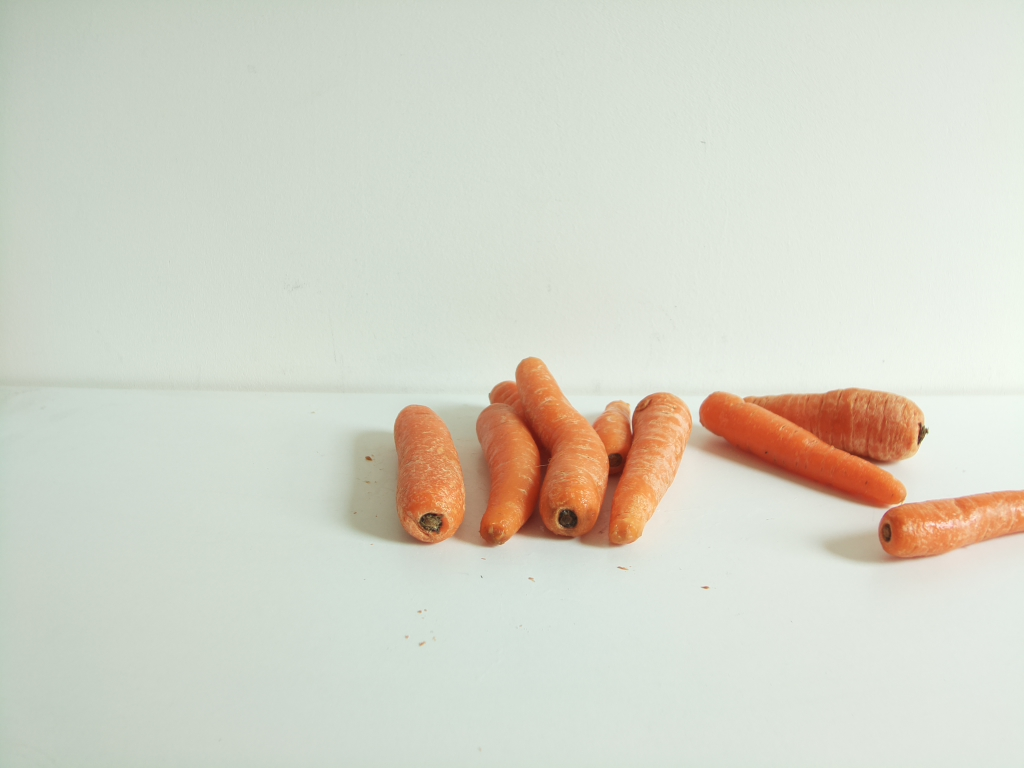carrot: (480, 361, 689, 547), (701, 389, 931, 508), (880, 487, 1024, 561), (396, 403, 466, 542)
